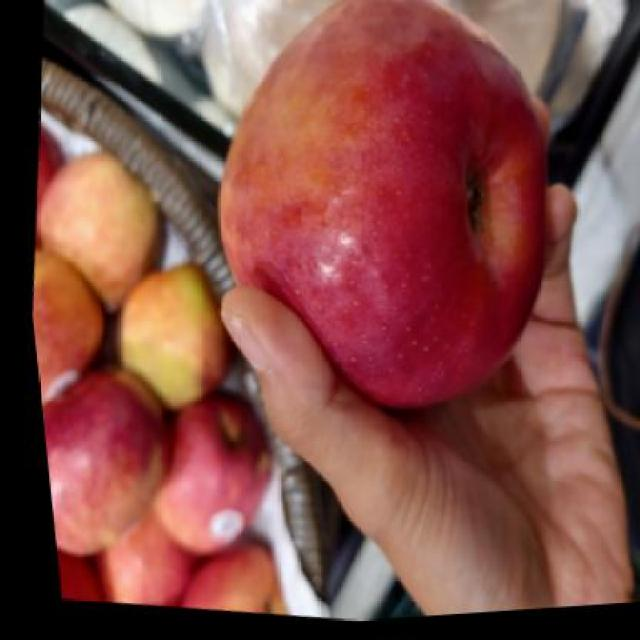Fresh Apple: (219, 1, 549, 408)
